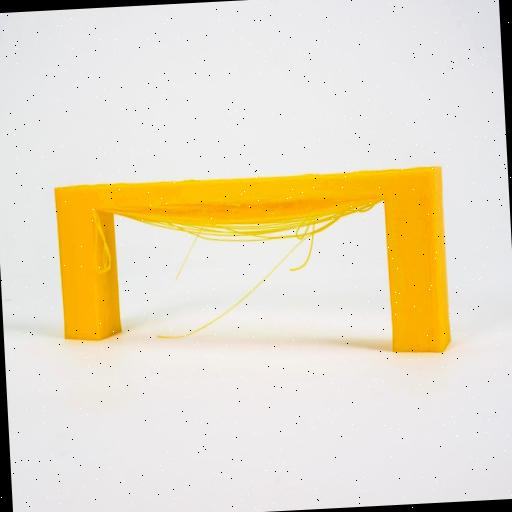stringing: (89, 194, 389, 356)
